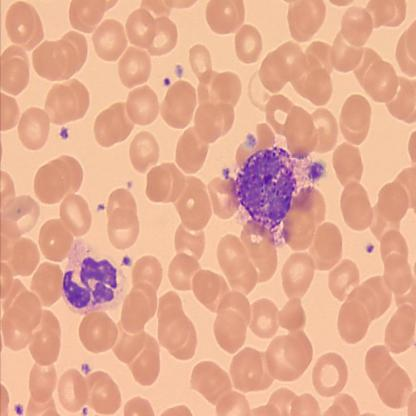Basophil: (232, 141, 298, 235)
